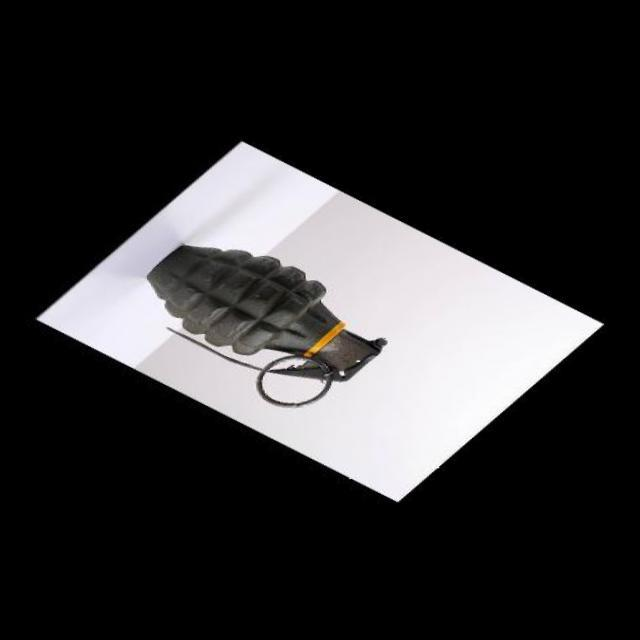grenade: (133, 213, 410, 432)
